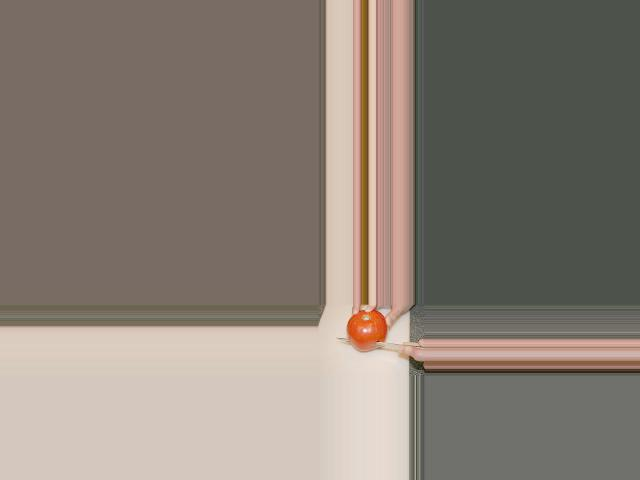tomato: (345, 309, 387, 351)
